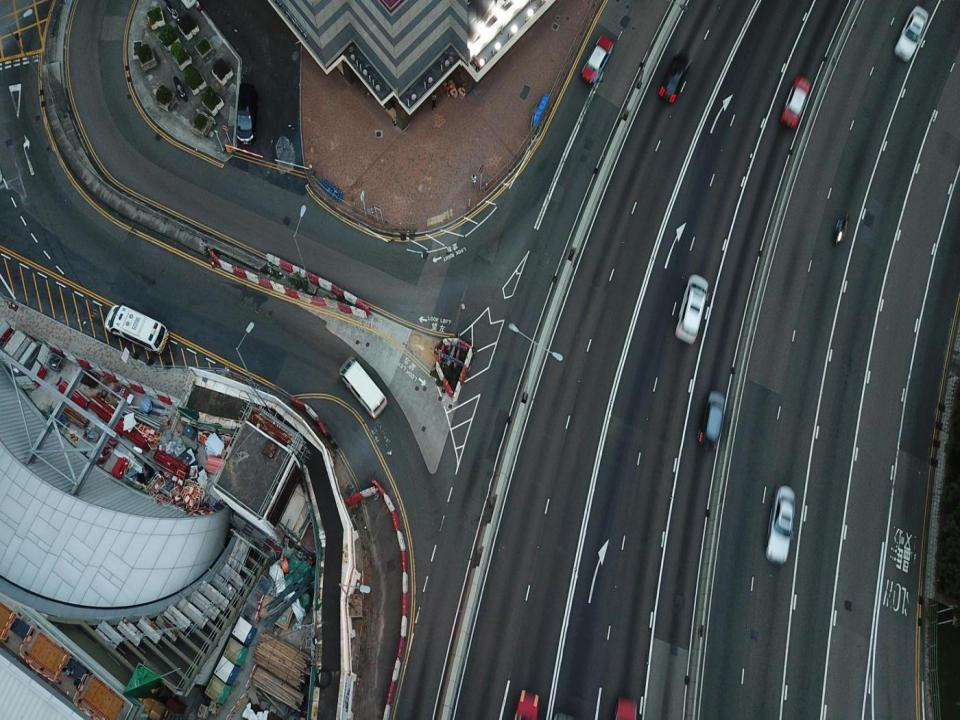car: (764, 486, 796, 563), (894, 5, 927, 60), (580, 33, 615, 84), (780, 75, 810, 128), (660, 53, 693, 101), (697, 388, 724, 446), (514, 691, 539, 719), (612, 695, 636, 719)
van: (104, 305, 168, 355), (338, 356, 388, 417), (675, 276, 709, 343), (236, 79, 256, 146)
